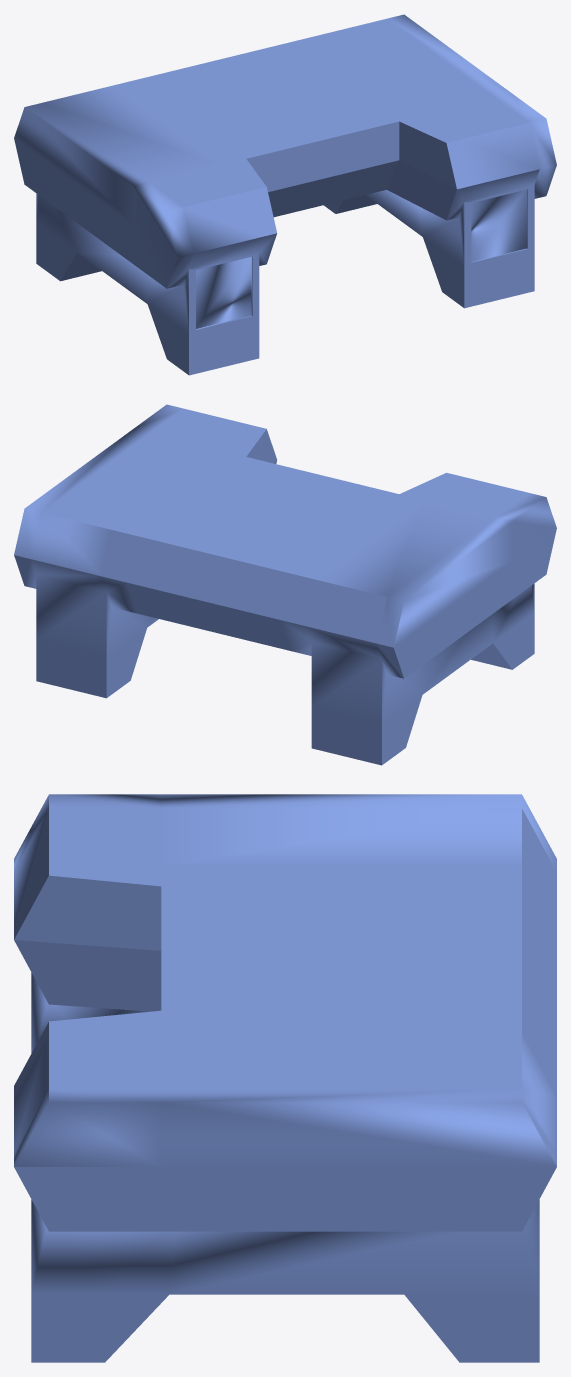
File: MesaDeTrabajo.fbx
3 views of the same model, one above another, from view 1: azimuth 30°, elevation 25°; view 2: azimuth 150°, elevation 25°; view 3: azimuth 270°, elevation 25° (orthographic). The views are drawn at different scales.
Parts seen in each view (by area): view 1: Nueva mesa de trabajo; view 2: Nueva mesa de trabajo; view 3: Nueva mesa de trabajo.
Boxes of the visible parts, x1,y1,x2,y2 form: Nueva mesa de trabajo: (14,14,556,375); Nueva mesa de trabajo: (14,404,556,765); Nueva mesa de trabajo: (14,794,556,1362).
Bounding box in the file's own units: 384 × 159 × 286.
